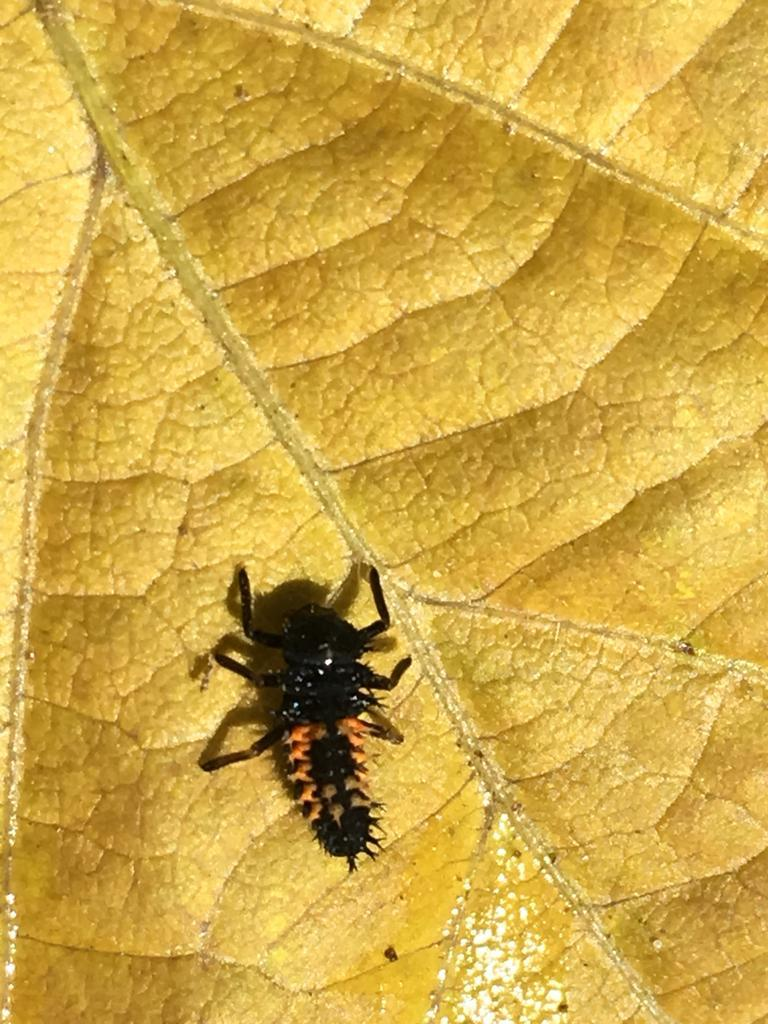ladybug: (199, 561, 416, 879)
